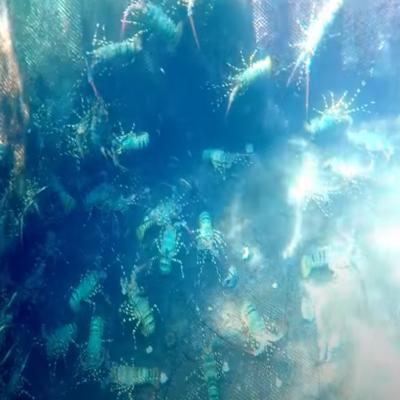lobster: (130, 0, 178, 45), (228, 57, 268, 104), (123, 277, 152, 338), (67, 265, 103, 313), (110, 363, 154, 397), (44, 322, 78, 366), (196, 208, 220, 266), (115, 123, 151, 159), (245, 303, 272, 349), (92, 40, 133, 70), (311, 103, 346, 138), (84, 318, 106, 370), (200, 342, 220, 398), (158, 222, 179, 269), (202, 145, 237, 171)
